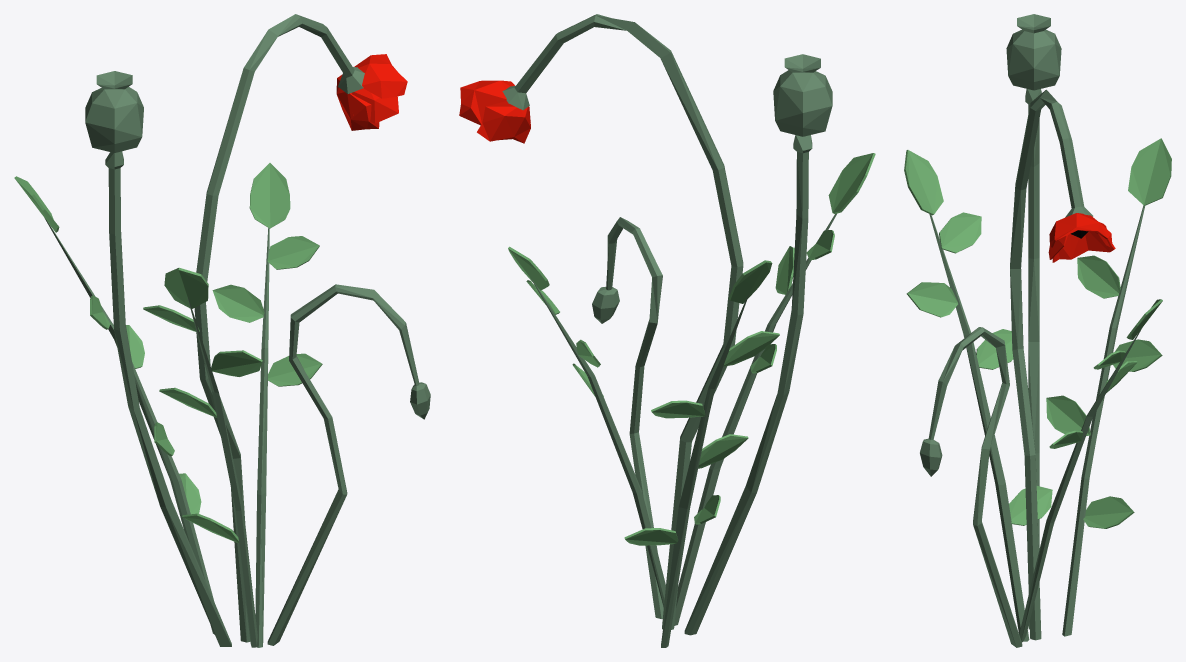
File: poppy.glb
3 views of the same model, side by side, from view 1: azimuth 30°, elevation 25°; view 2: azimuth 150°, elevation 25°; view 3: azimuth 270°, elevation 25° (orthographic). The views are drawn at different scales.
Visible parts, largest first — view 1: poppy; view 2: poppy; view 3: poppy.
Boxes of the visible parts, <box> form: poppy: <box>14,14,430,647</box>; poppy: <box>459,14,875,647</box>; poppy: <box>904,14,1171,647</box>.
Size of the model in its own units: 0.4272 by 0.7305 by 0.3131.
Materials: 1 (1 with a texture image).
